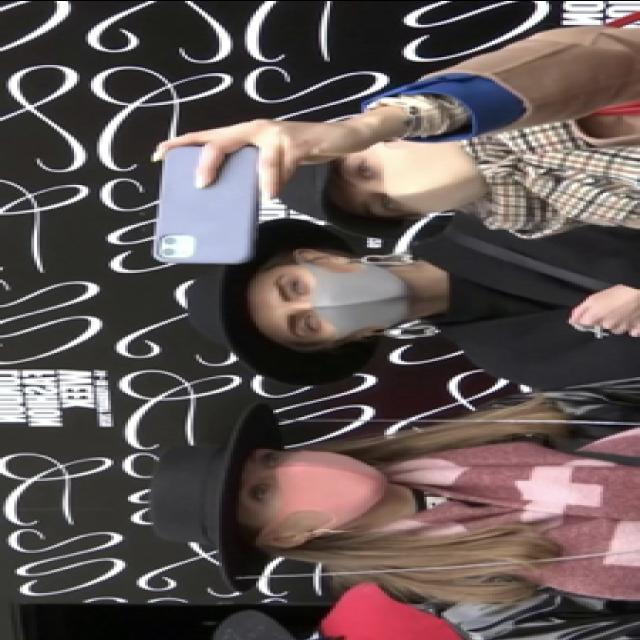mask: (330, 138, 484, 216), (267, 262, 418, 340), (236, 448, 381, 528)
